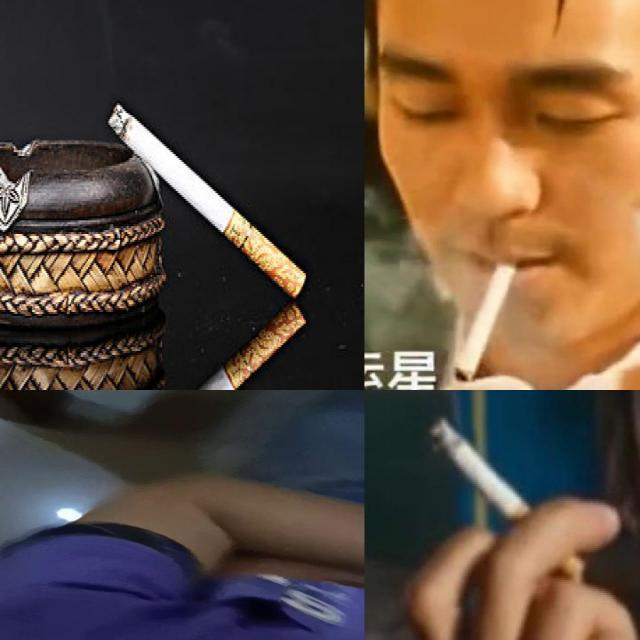rokok: (106, 100, 306, 300), (425, 411, 535, 524), (452, 260, 516, 382)
